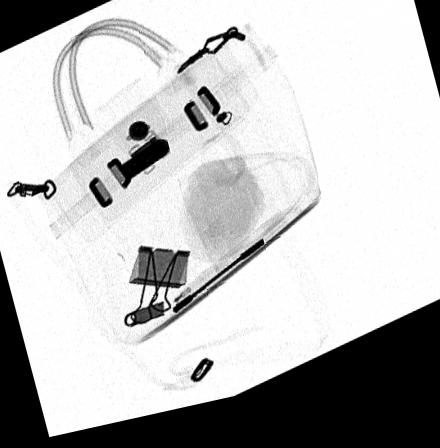Wrench: (168, 248, 265, 324)
